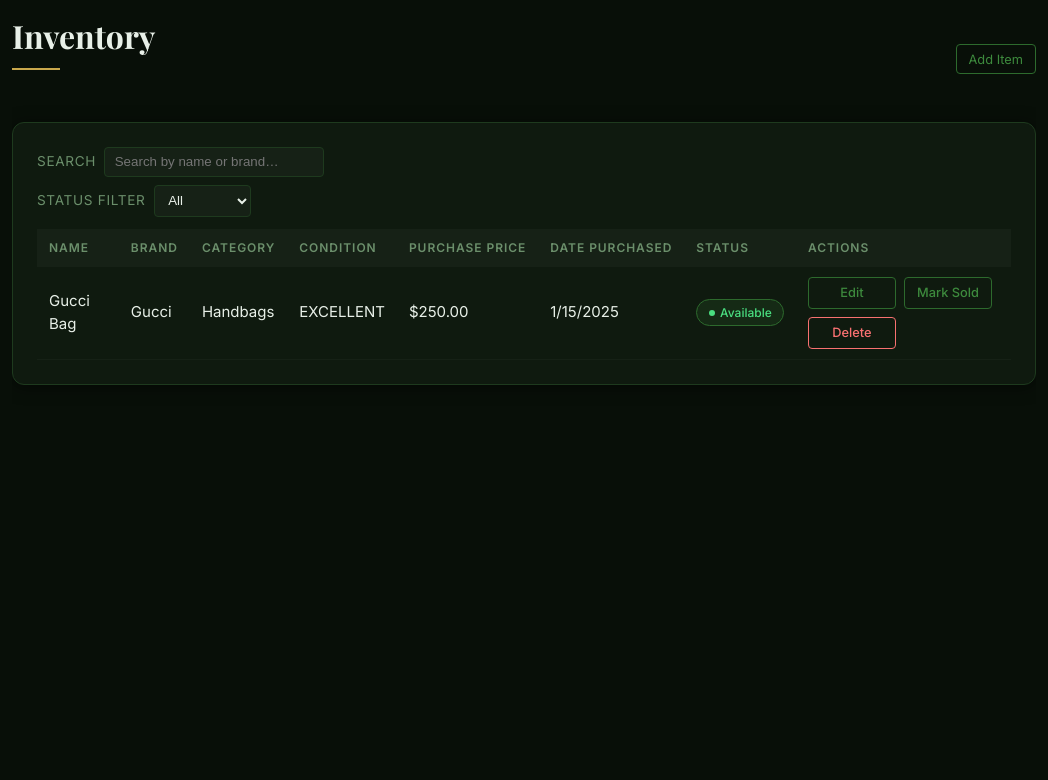
Test: InventoryPage › clicking Undo restores the item in the list
This screenshot has width=1048, height=780.
Expected: the text "Gucci Bag" is shown, [37,267,119,359]
What coordinates should you click on to do the following:
click the button "Delete"
I would click on:
 (852, 333)
Its box is [808,317,896,349].
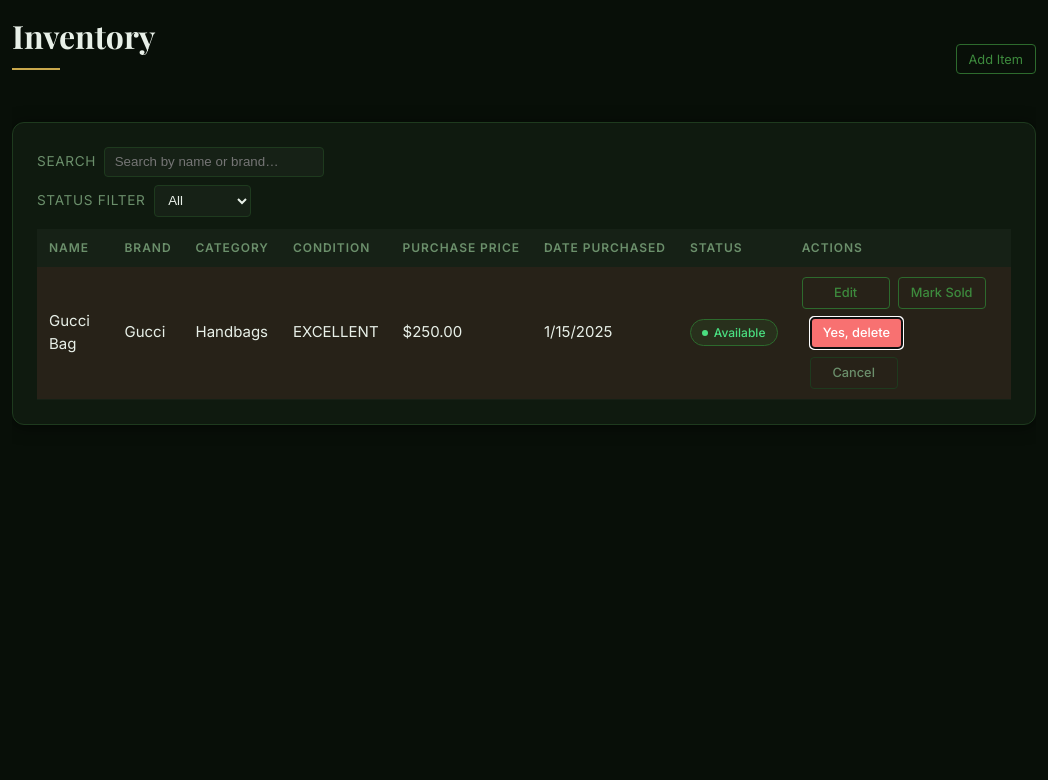
What coordinates should you click on to do the following:
click the button "Yes, delete"
I would click on:
 (856, 333)
Its box is [810,317,903,349].
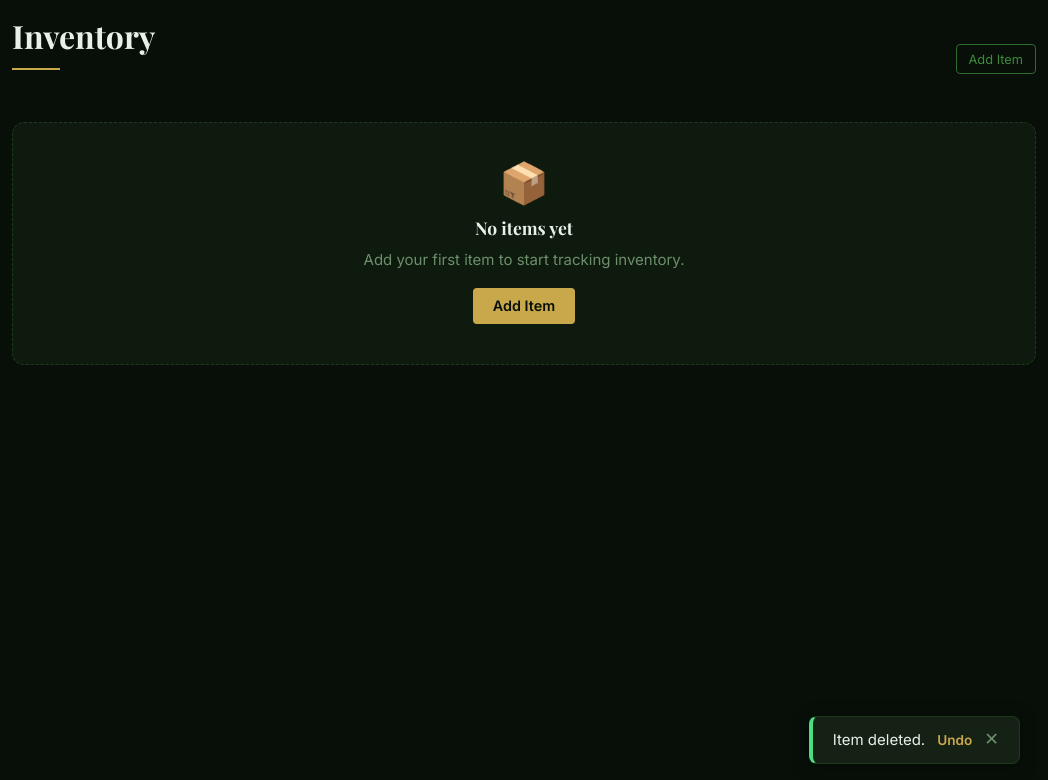
Result: the text "Gucci Bag" is gone
Note: Click Undo
What coordinates should you click on to do the following:
click the button "Undo"
I would click on:
 (955, 740)
Its box is [937,732,972,748].
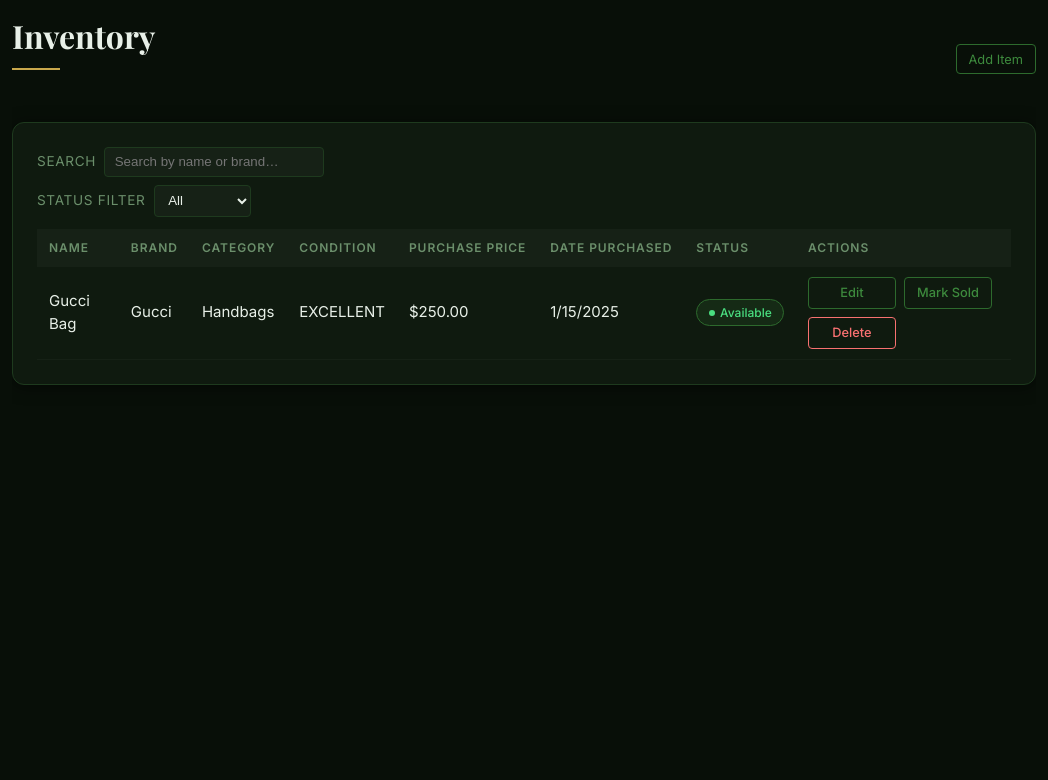
Result: the text "Gucci Bag" is shown at [37,267,119,359]
